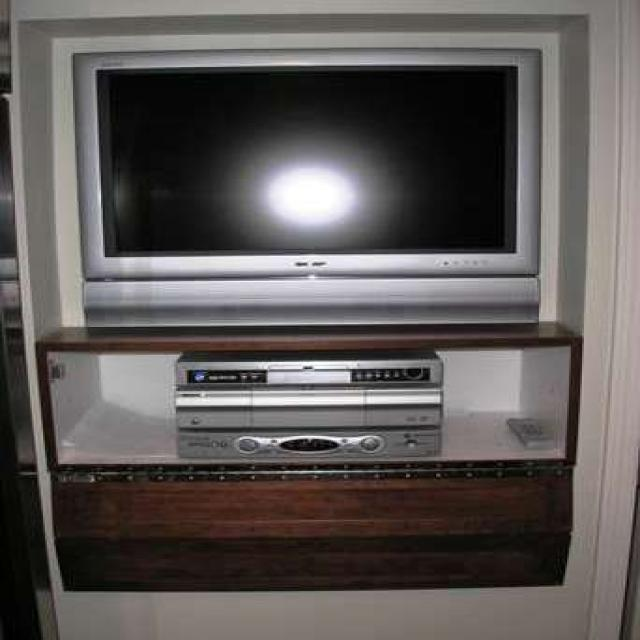tvmonitor: (68, 47, 542, 331)
